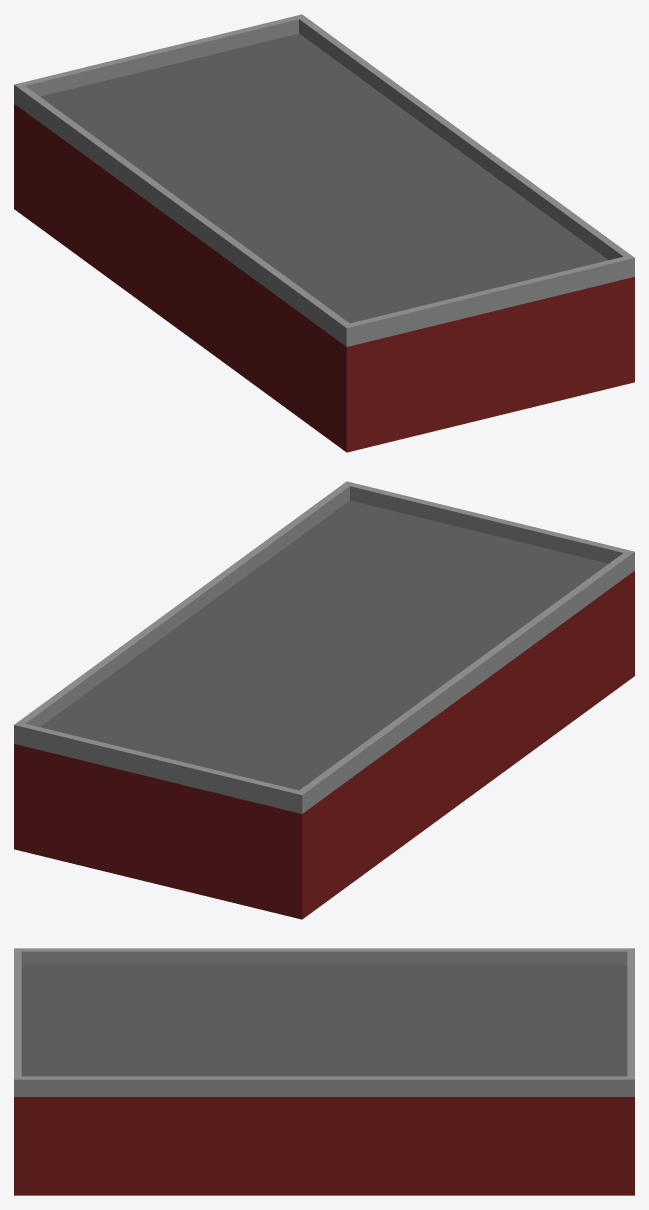
Rendered from Building_20_40_70.FBX.
3 views of the same model, one above another, from view 1: azimuth 30°, elevation 25°; view 2: azimuth 150°, elevation 25°; view 3: azimuth 270°, elevation 25° (orthographic). The views are drawn at different scales.
Parts seen in each view (by area): view 1: BakedBuilding_2014741032857967; view 2: BakedBuilding_2014741032857967; view 3: BakedBuilding_2014741032857967.
Part boxes in pixels (x1,y1,x2,y2): BakedBuilding_2014741032857967: (14,14,634,452); BakedBuilding_2014741032857967: (14,481,634,919); BakedBuilding_2014741032857967: (14,948,634,1195).
Bounding box in the file's own units: 2000 × 825 × 4000.
